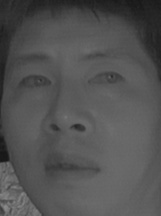eye: (86, 68, 129, 90), (15, 72, 54, 96)
mouth: (38, 146, 102, 188)
